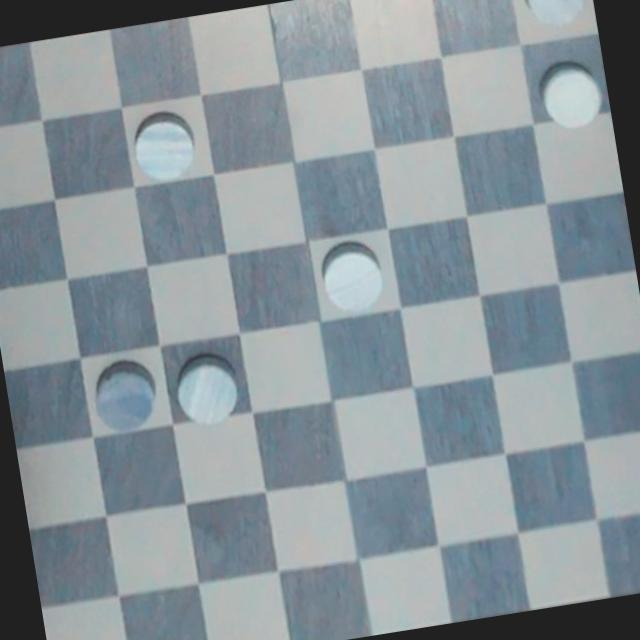BOARD: (0, 0, 640, 640)
white: (120, 104, 204, 194), (311, 231, 393, 323), (80, 362, 168, 441), (171, 350, 252, 428), (536, 54, 608, 141), (517, 0, 596, 41)
